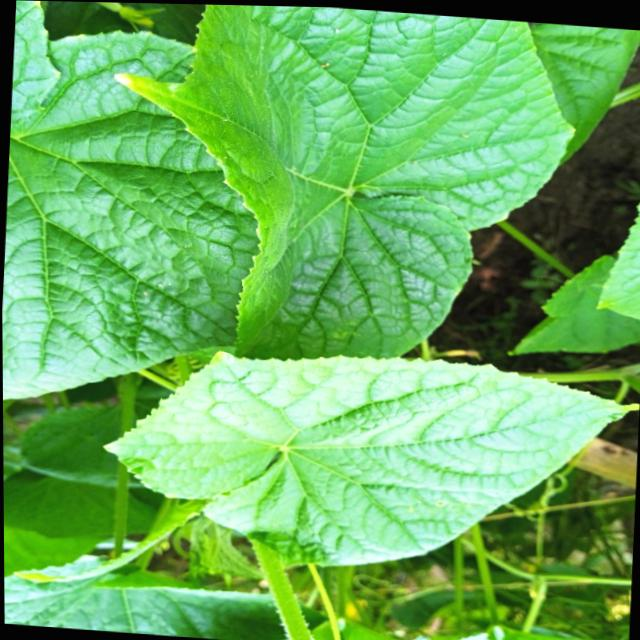Fresh-Leaf: (112, 5, 578, 356), (103, 348, 640, 565), (2, 0, 258, 400)
